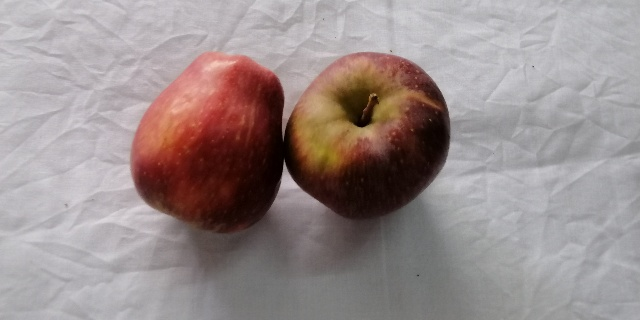apple_kashmir: (130, 49, 283, 236), (284, 51, 449, 221)
